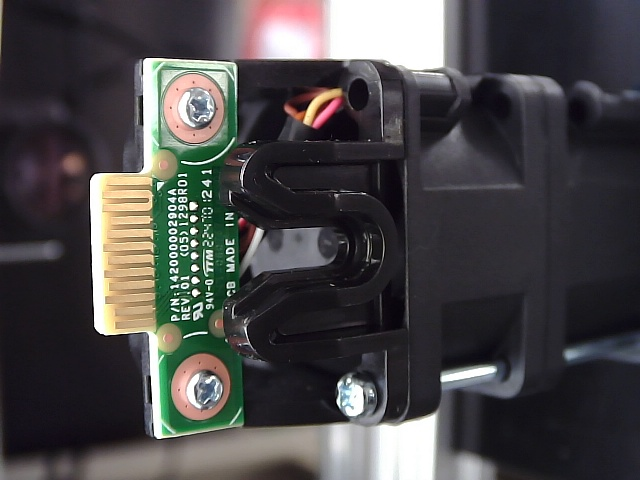3_0: (61, 11, 636, 451)
